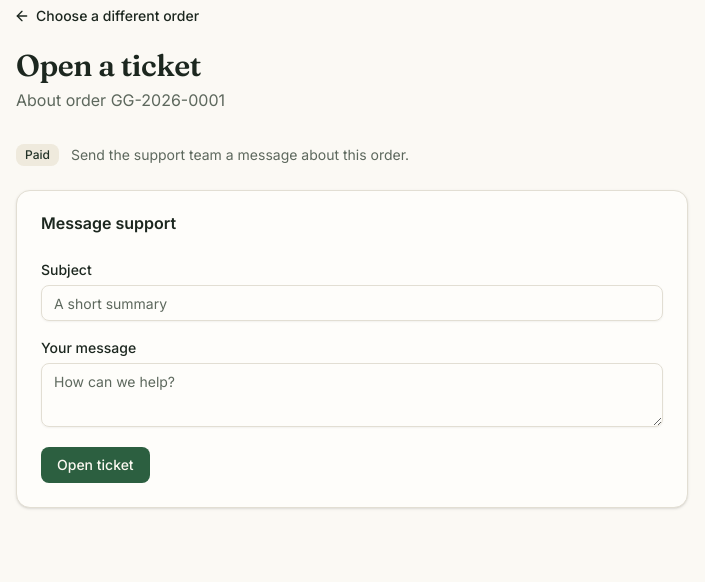
it: validation › surfaces the schema's messages instead of submitting
Check: the text "Message support" is shown, box [41,213,176,233]
Click the button "Open ticket". click: point(95, 465)
box: [41,447,150,483]
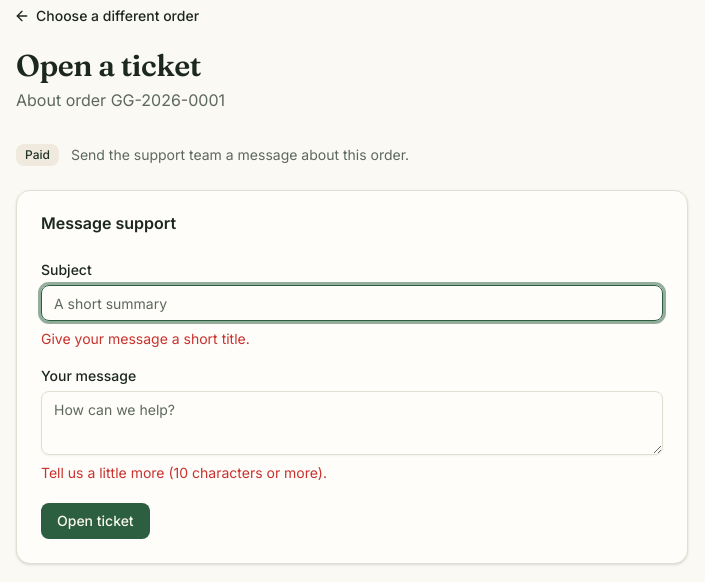
Check: the text "Give your message a short title." is shown, box [41,330,250,347]
Check: the text "Tell us a little more (10 characters or more)." is shown, box [41,464,327,481]
